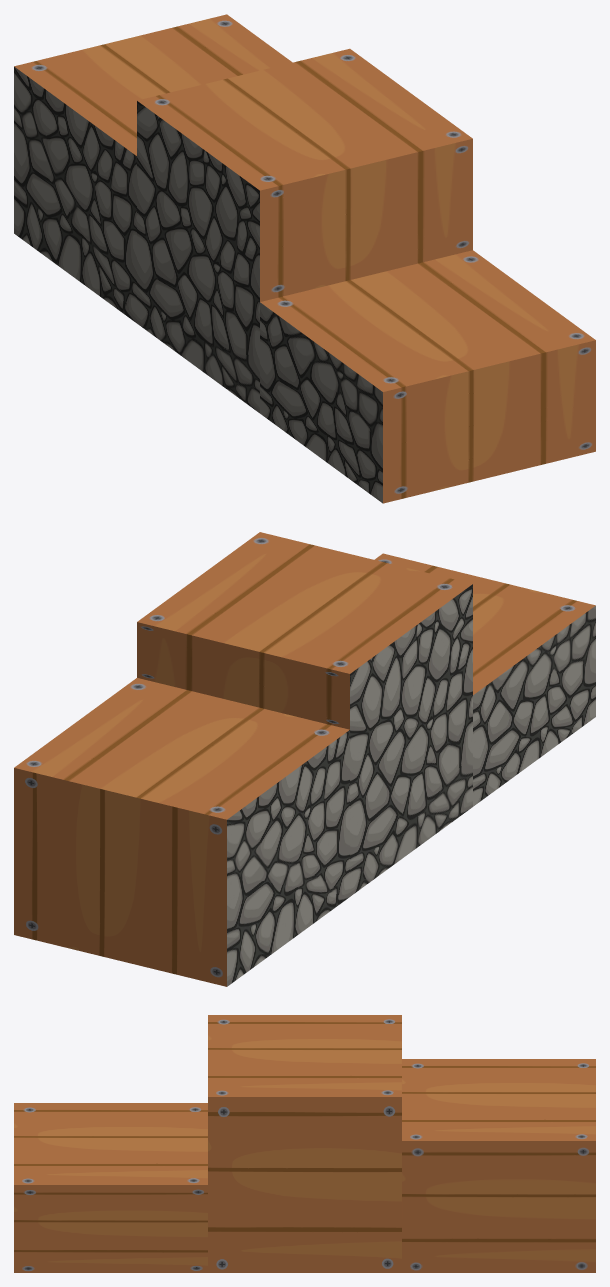
The model's file is PodiumV1.fbx.
The picture shows the model from 3 angles, top to bottom: view 1: azimuth 30°, elevation 25°; view 2: azimuth 150°, elevation 25°; view 3: azimuth 270°, elevation 25°; orthographic projection. The views are drawn at different scales.
Parts seen in each view (by area): view 1: Cube; view 2: Cube; view 3: Cube.
Part boxes in pixels (bbox=[...]): Cube: bbox=[14, 14, 595, 503]; Cube: bbox=[14, 532, 595, 986]; Cube: bbox=[14, 1015, 595, 1272].
Size of the model in its own units: 200 by 200 by 600.
